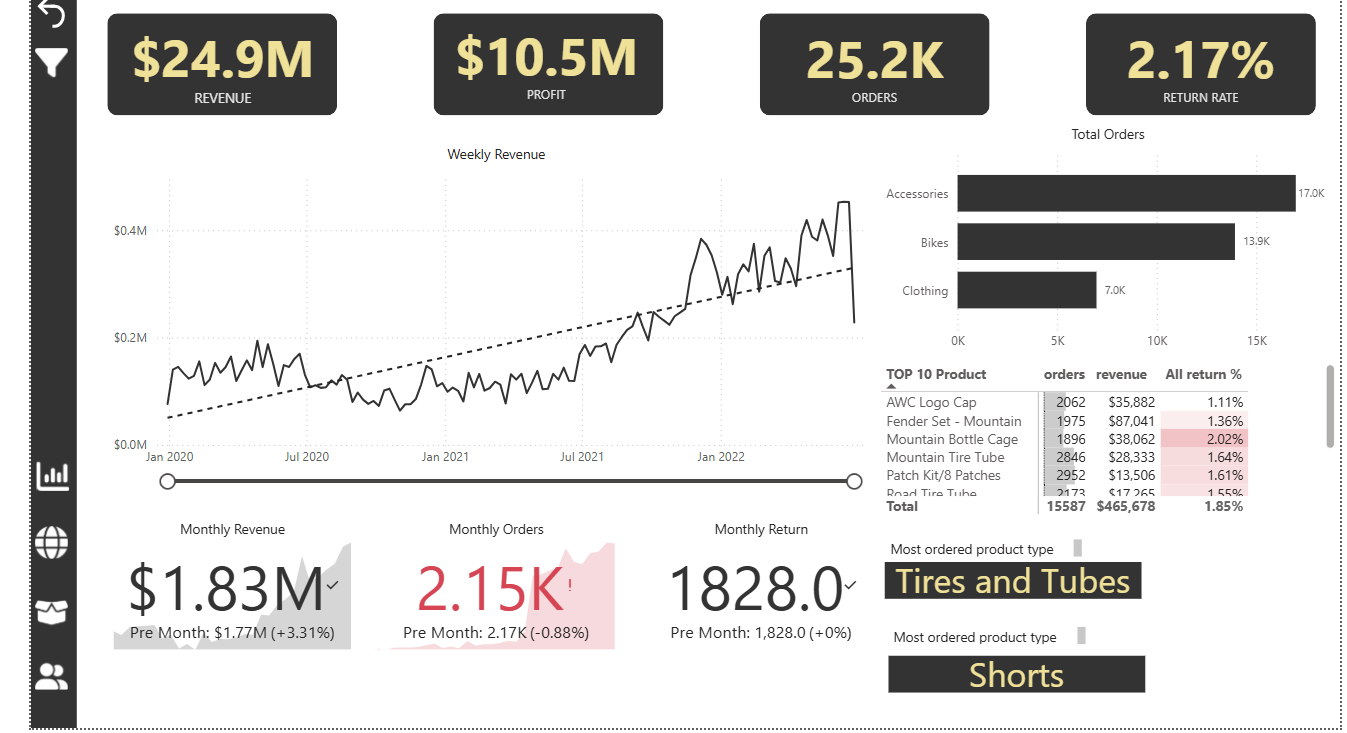

The dashboard page shown, as its layout file describes it:
{"tool":"powerbi","page":{"name":"Exec Dashbord","canvas":[1280,720],"ordinal":0},"visuals":[{"type":"shape","title":"Left Nav Bg","box":[0,0,45,720],"z":0},{"type":"group","id":"g1","title":"KPI Bg","box":[75,21.3,1182.5,100],"z":0,"group":"g2"},{"type":"shape","box":[75,21.3,225,100],"z":0,"group":"g1"},{"type":"card","fields":{"Values":["Measures Table.Total revenue"]},"box":[76.2,21.3,223.8,100],"z":0,"group":"g3"},{"type":"group","id":"g2","title":"Group 1","box":[75,17.3,1182.5,104],"z":1000},{"type":"group","id":"g3","title":"KPI cards","box":[76.2,17.3,1181.2,104],"z":1000,"group":"g2"},{"type":"card","fields":{"Values":["Measures Table.Total profit"]},"box":[394.6,17.3,221.2,101.2],"z":1000,"group":"g3"},{"type":"shape","box":[394.2,21.3,225,100],"z":1000,"group":"g1"},{"type":"card","fields":{"Values":["Measures Table.Total orders"]},"box":[713.3,21.3,225,100],"z":2000,"group":"g3"},{"type":"shape","box":[1032.5,21.3,225,100],"z":2000,"group":"g1"},{"type":"lineChart","title":"Weekly Revenue","fields":{"Category":["Calendar Lookup.Start of Year Hierarchy.Start of Week"],"Y":["Measures Table.Total revenue"]},"box":[76.2,148.8,758.8,340],"z":2000},{"type":"shape","box":[713.3,21.3,225,100],"z":3000,"group":"g1"},{"type":"card","fields":{"Values":["Measures Table.All return %"]},"box":[1032.4,21.3,225,100],"z":3000,"group":"g3"},{"type":"kpi","title":"Monthly Revenue","fields":{"Indicator":["Measures Table.Total revenue"],"TrendLine":["Calendar Lookup.Start of Year Hierarchy.Start of Month"],"Goal":["Measures Table.Previous month revenue"]},"box":[76.2,516.2,242.5,132.5],"z":3000},{"type":"kpi","title":"Monthly Orders","fields":{"TrendLine":["Calendar Lookup.Start of Year Hierarchy.Start of Month"],"Indicator":["Measures Table.Total orders"],"Goal":["Measures Table.Previous month Orders"]},"box":[333.8,516.2,242.5,132.5],"z":4000},{"type":"kpi","title":"Monthly Return","fields":{"TrendLine":["Calendar Lookup.Start of Year Hierarchy.Start of Month"],"Indicator":["Measures Table.Total Return"],"Goal":["Measures Table.Previous month Returns"]},"box":[592.5,516.2,242.5,132.5],"z":5000},{"type":"clusteredBarChart","title":"Total Orders","fields":{"Category":["Product Categories Lookup.CategoryName"],"Y":["Measures Table.Total orders"]},"box":[826.2,130,453.8,230],"z":6000},{"type":"pivotTable","fields":{"Rows":["Product Lookup.ProductName"],"Values":["Measures Table.Total orders","Measures Table.Total revenue","Measures Table.All return %"]},"box":[826.2,360,453.8,156.2],"z":7000},{"type":"card","fields":{"Values":["Min(Product Subcategories Lookup.SubcategoryName)"]},"box":[835,557.5,251.2,36.2],"z":8000},{"type":"textbox","box":[835,531.2,197.5,26.2],"z":9000},{"type":"card","fields":{"Values":["Min(Product Subcategories Lookup.SubcategoryName)"]},"box":[838.8,648.8,251.2,36.2],"z":10000},{"type":"textbox","box":[839,616.2,197.5,26.2],"z":11000},{"type":"actionButton","box":[0,0,100,40],"z":12000},{"type":"actionButton","box":[1.2,453.7,45.2,40.4],"z":13000},{"type":"actionButton","box":[0,518.5,45.2,40.4],"z":14000},{"type":"actionButton","box":[0,587,45.2,40.4],"z":15000},{"type":"actionButton","box":[0,649.3,45.2,40.4],"z":16000},{"type":"actionButton","box":[0,48.9,46.5,40.4],"z":18000}]}

Visuals, with their boxes on the page's 1280x720 design canvas (x1, y1, x2, y2). These are canvas units, not pixel positions in the 1347x733 screenshot, which may show the page scaled, cropped or inside an application window:
"Left Nav Bg" shape: bbox(0, 0, 45, 720)
"KPI Bg" group: bbox(75, 21, 1258, 121)
shape: bbox(75, 21, 300, 121)
card - Measures Table.Total revenue: bbox(76, 21, 300, 121)
"Group 1" group: bbox(75, 17, 1258, 121)
"KPI cards" group: bbox(76, 17, 1257, 121)
card - Measures Table.Total profit: bbox(395, 17, 616, 118)
shape: bbox(394, 21, 619, 121)
card - Measures Table.Total orders: bbox(713, 21, 938, 121)
shape: bbox(1032, 21, 1258, 121)
"Weekly Revenue" lineChart: bbox(76, 149, 835, 489)
shape: bbox(713, 21, 938, 121)
card - Measures Table.All return %: bbox(1032, 21, 1257, 121)
"Monthly Revenue" kpi: bbox(76, 516, 319, 649)
"Monthly Orders" kpi: bbox(334, 516, 576, 649)
"Monthly Return" kpi: bbox(592, 516, 835, 649)
"Total Orders" clusteredBarChart: bbox(826, 130, 1280, 360)
pivotTable - Product Lookup.ProductName x Measures Table.Total orders: bbox(826, 360, 1280, 516)
card - Min(Product Subcategories Lookup.SubcategoryName): bbox(835, 558, 1086, 594)
textbox: bbox(835, 531, 1032, 557)
card - Min(Product Subcategories Lookup.SubcategoryName): bbox(839, 649, 1090, 685)
textbox: bbox(839, 616, 1036, 642)
actionButton: bbox(0, 0, 100, 40)
actionButton: bbox(1, 454, 46, 494)
actionButton: bbox(0, 518, 45, 559)
actionButton: bbox(0, 587, 45, 627)
actionButton: bbox(0, 649, 45, 690)
actionButton: bbox(0, 49, 46, 89)
